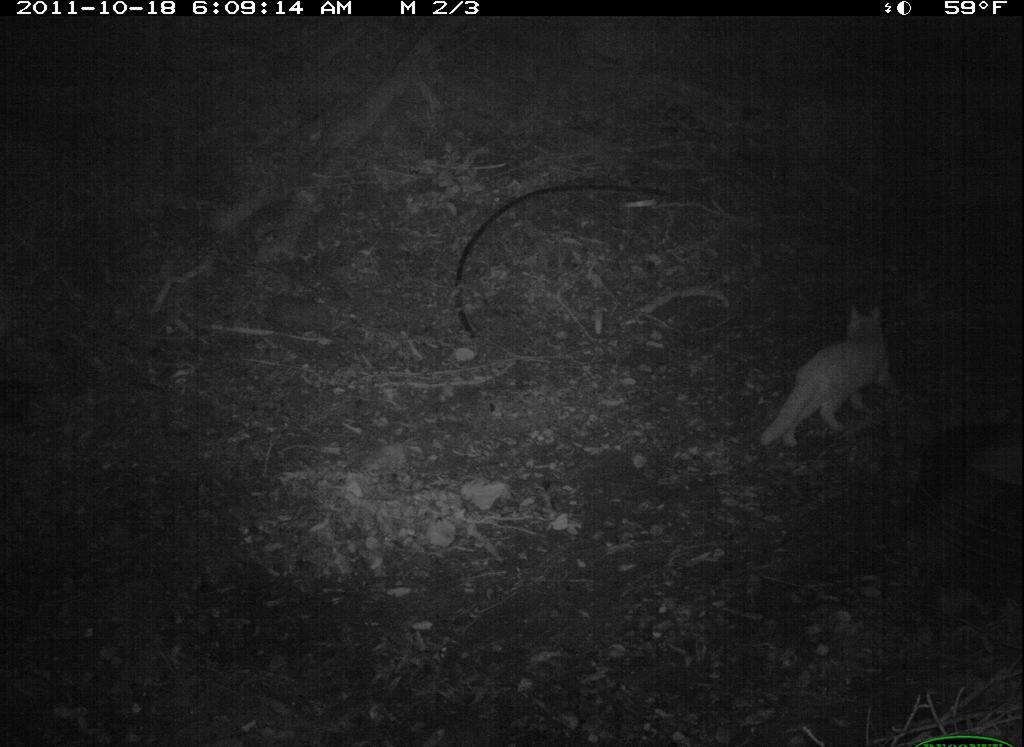cat: (753, 305, 925, 465)
